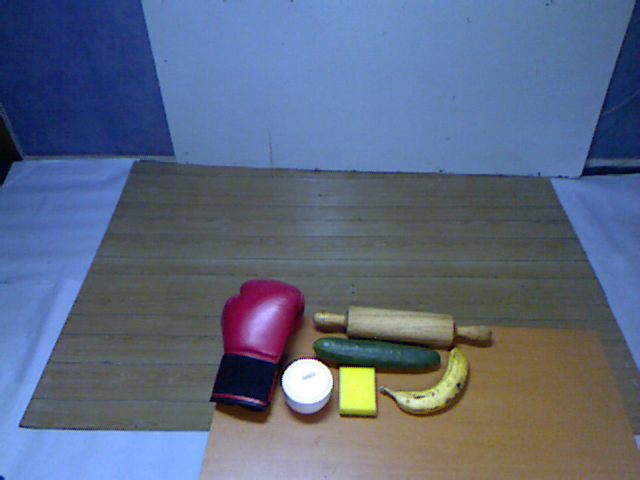azucarero: (277, 354, 338, 424)
esponja: (332, 364, 383, 424)
guante: (206, 275, 309, 424)
pepino: (305, 334, 442, 376)
platano: (378, 345, 473, 420)
uslero: (306, 300, 499, 353)
